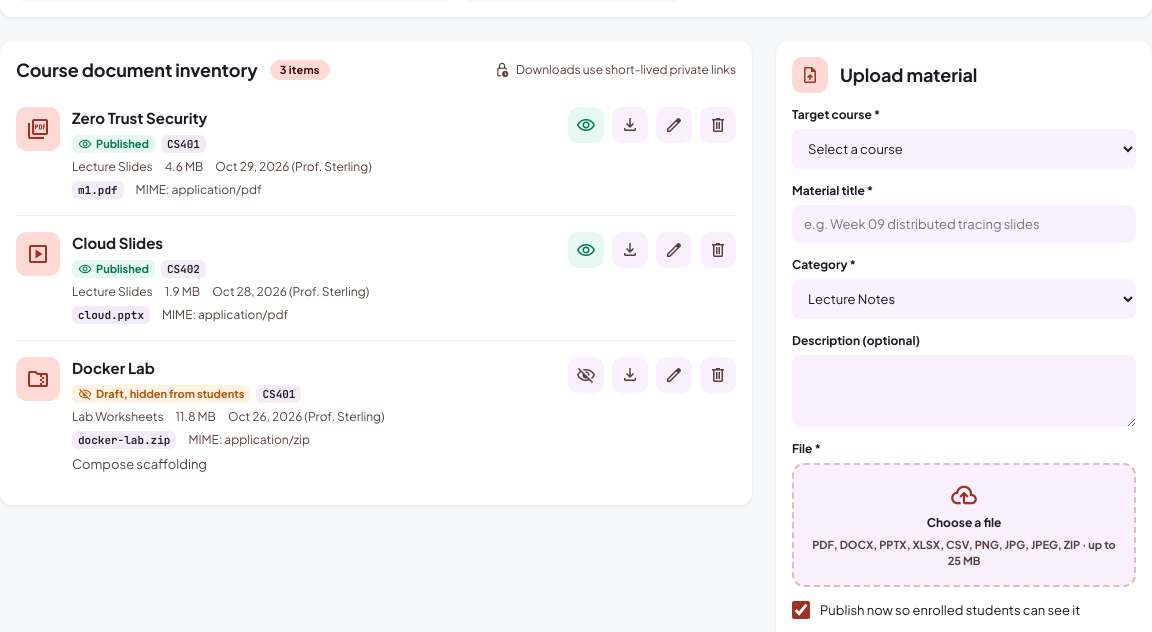
Scenario: row actions › publishes and unpublishes
(page scrolled)
Expected: the heading "Docker Lab" is shown, [72, 358, 155, 377]
Click the button named "Publish Docker Lab".
click(586, 375)  # box [568, 357, 604, 393]
(page scrolled)
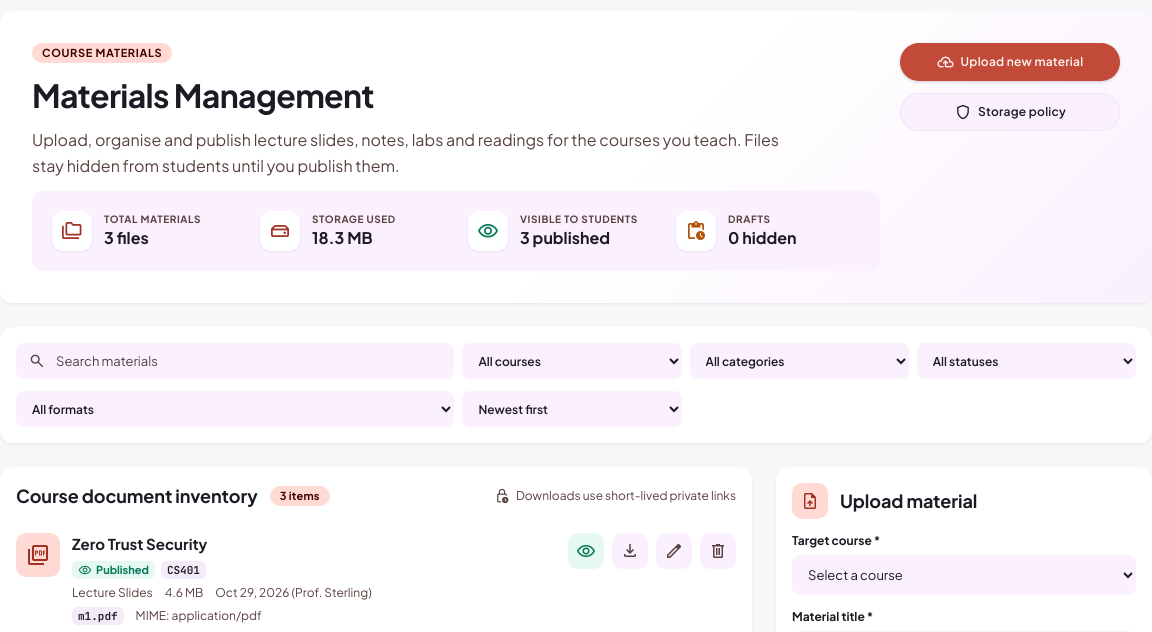
Now the text "3 published" is shown, box [520, 227, 610, 248]
